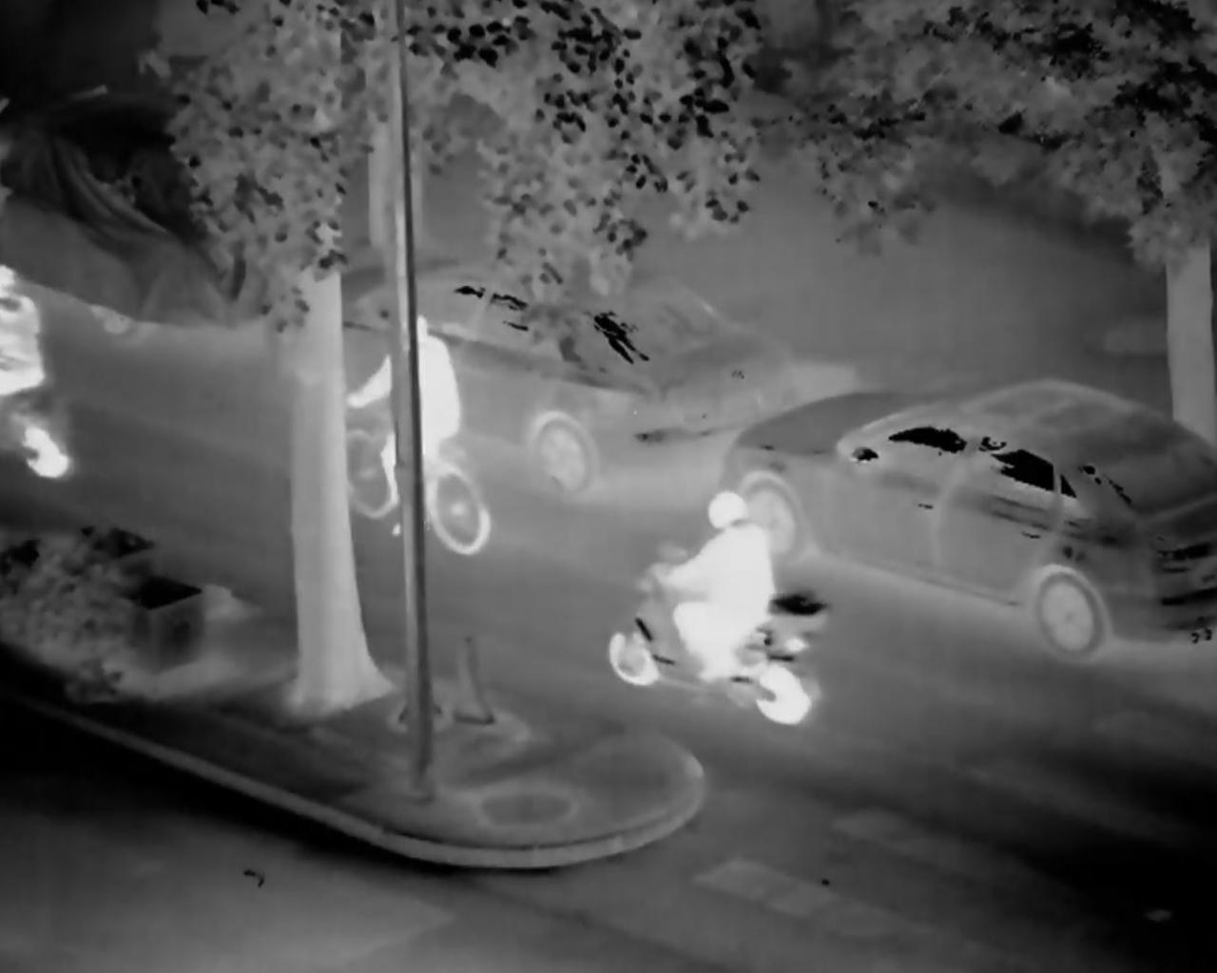person: (643, 487, 785, 696), (359, 309, 473, 553)
